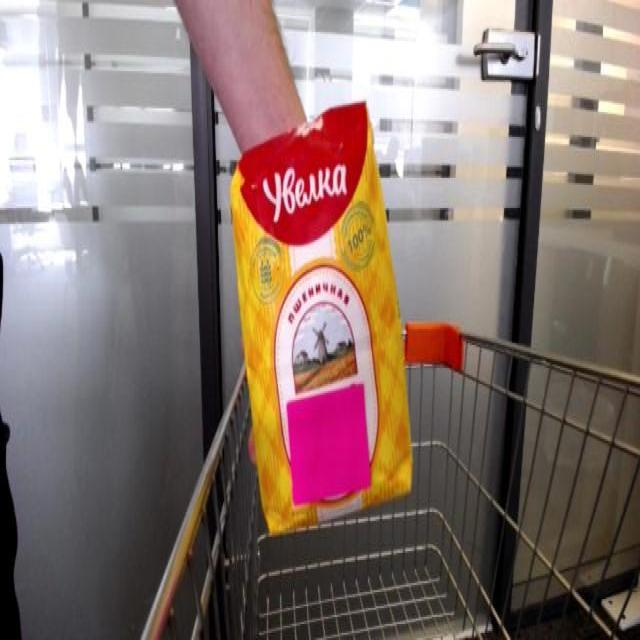Almond Milk: (226, 91, 415, 542)
